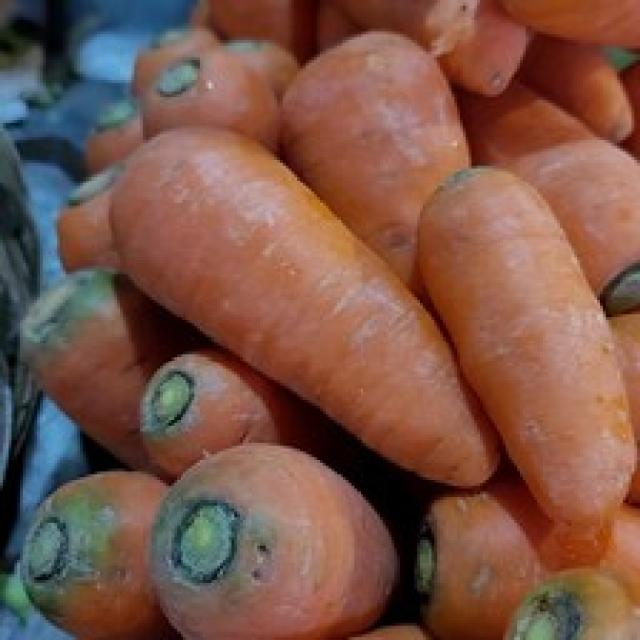Fresh_Carrot: (126, 157, 378, 357)
